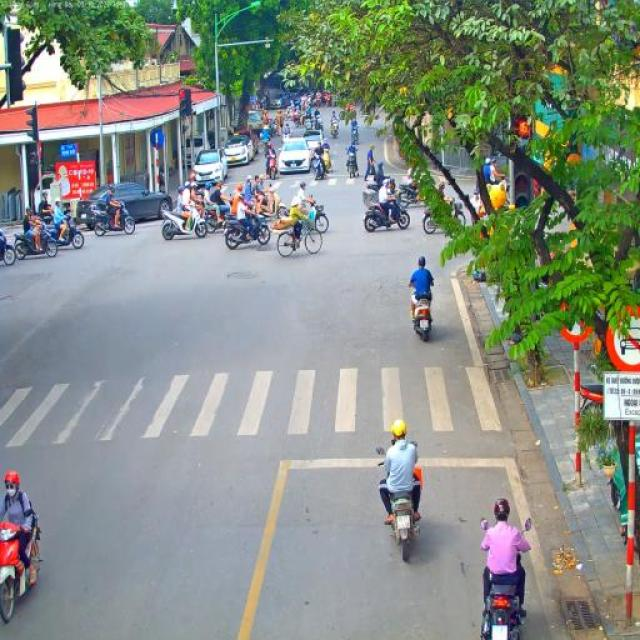car: (75, 182, 173, 228), (192, 148, 228, 191), (276, 136, 312, 176), (220, 134, 254, 166), (302, 130, 324, 158), (233, 128, 255, 148), (248, 111, 264, 138), (270, 92, 294, 109)
motorcycle: (477, 515, 535, 640), (375, 439, 424, 561), (0, 507, 45, 623), (222, 209, 272, 250), (12, 218, 58, 261), (364, 193, 411, 233), (43, 208, 86, 251), (160, 203, 208, 241), (422, 199, 467, 235), (90, 202, 136, 236), (239, 184, 287, 216), (410, 283, 434, 342), (297, 195, 329, 234), (195, 197, 230, 232), (395, 184, 426, 208), (0, 228, 16, 266), (365, 173, 394, 192), (346, 151, 360, 179), (266, 152, 278, 182), (312, 157, 326, 182), (322, 148, 333, 173), (282, 130, 293, 150), (350, 125, 360, 146), (262, 138, 272, 158), (330, 120, 340, 140), (302, 114, 312, 131), (314, 115, 324, 131), (292, 112, 302, 128), (282, 111, 293, 121)
truck: (254, 86, 270, 110)
